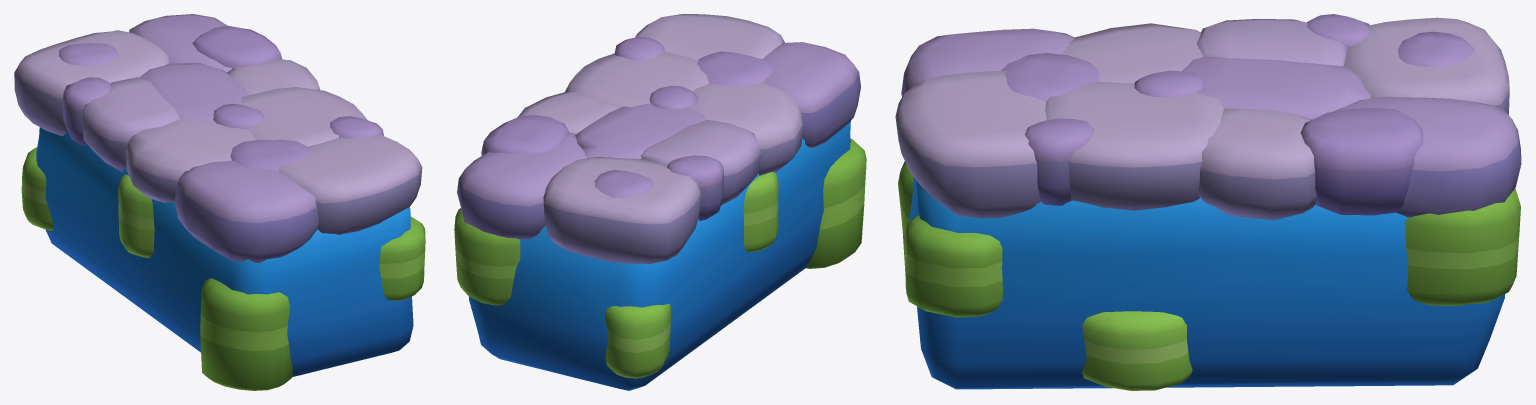
The model's file is Platform_C_04.glb.
3 renders of one model, left to right at view 1: azimuth 30°, elevation 25°; view 2: azimuth 150°, elevation 25°; view 3: azimuth 270°, elevation 25°, orthographic. The views are drawn at different scales.
Visible parts, largest first — view 1: Platform_C_04; view 2: Platform_C_04; view 3: Platform_C_04.
Boxes of the visible parts, box(x1,y1,x2,y2) form: Platform_C_04: box(14, 14, 425, 390); Platform_C_04: box(454, 14, 866, 390); Platform_C_04: box(895, 14, 1521, 390).
Bounding box in the file's own units: 7.05 × 6 × 12.86.
Materials: 1 (1 with a texture image).
